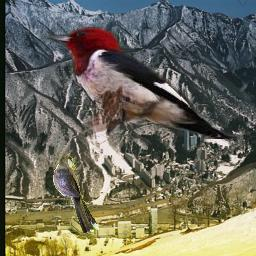Cuckoo: (53, 154, 99, 235)
Woodpecker: (40, 25, 243, 140)
